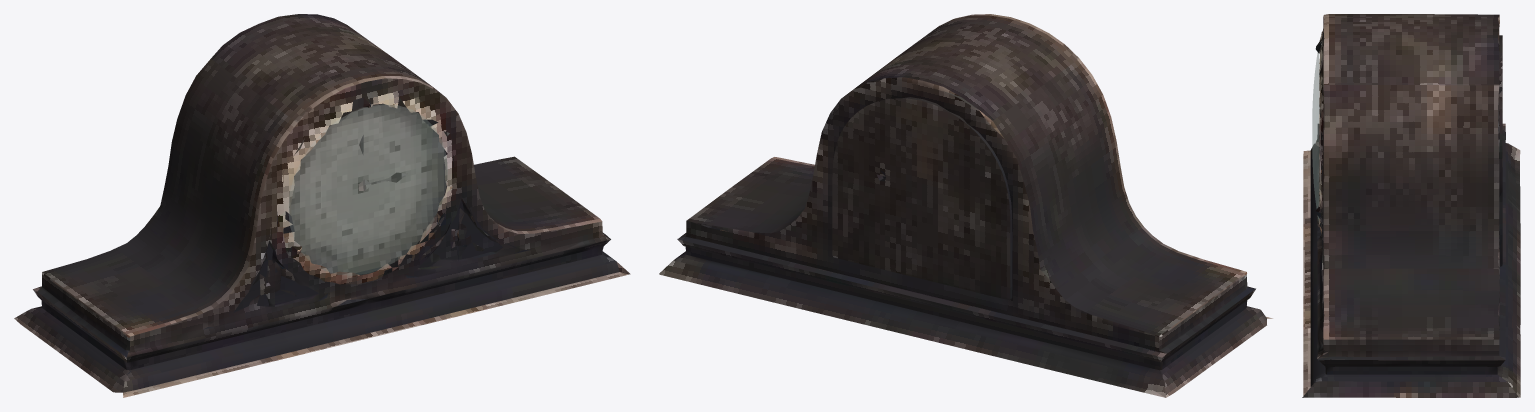
File: b_mantelclock.glb
3 views of the same model, side by side, from view 1: azimuth 30°, elevation 25°; view 2: azimuth 150°, elevation 25°; view 3: azimuth 270°, elevation 25° (orthographic).
Parts seen in each view (by area): view 1: body, glass; view 2: body; view 3: body, glass.
Boxes of the visible parts, bbox=[...] form: body: bbox=[14, 14, 630, 397]; glass: bbox=[288, 104, 447, 275]; body: bbox=[659, 14, 1272, 397]; body: bbox=[1302, 14, 1520, 397]; glass: bbox=[1312, 53, 1319, 223].
Bounding box in the file's own units: 0.3439 × 0.1605 × 0.128.
Materials: 2 (2 with a texture image).
